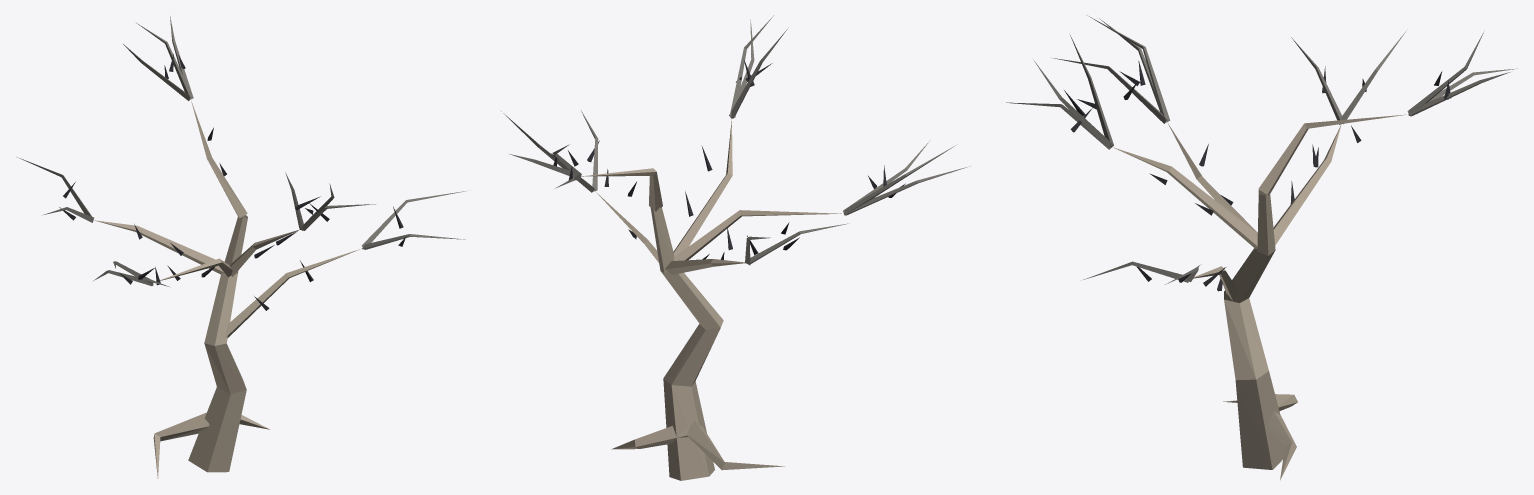
File: Circle7Piece_Tree7.obj
3 views of the same model, side by side, from view 1: azimuth 30°, elevation 25°; view 2: azimuth 150°, elevation 25°; view 3: azimuth 270°, elevation 25° (orthographic). The views are drawn at different scales.
Parts seen in each view (by area): view 1: Circle7Piece_Tree7; view 2: Circle7Piece_Tree7; view 3: Circle7Piece_Tree7.
Part boxes in pixels (x1,y1,x2,y2): Circle7Piece_Tree7: [17, 16, 466, 478]; Circle7Piece_Tree7: [501, 15, 970, 480]; Circle7Piece_Tree7: [1006, 15, 1517, 480].
Bounding box in the file's own units: 7.13 × 6.26 × 6.65.
Materials: 1 (1 with a texture image).
